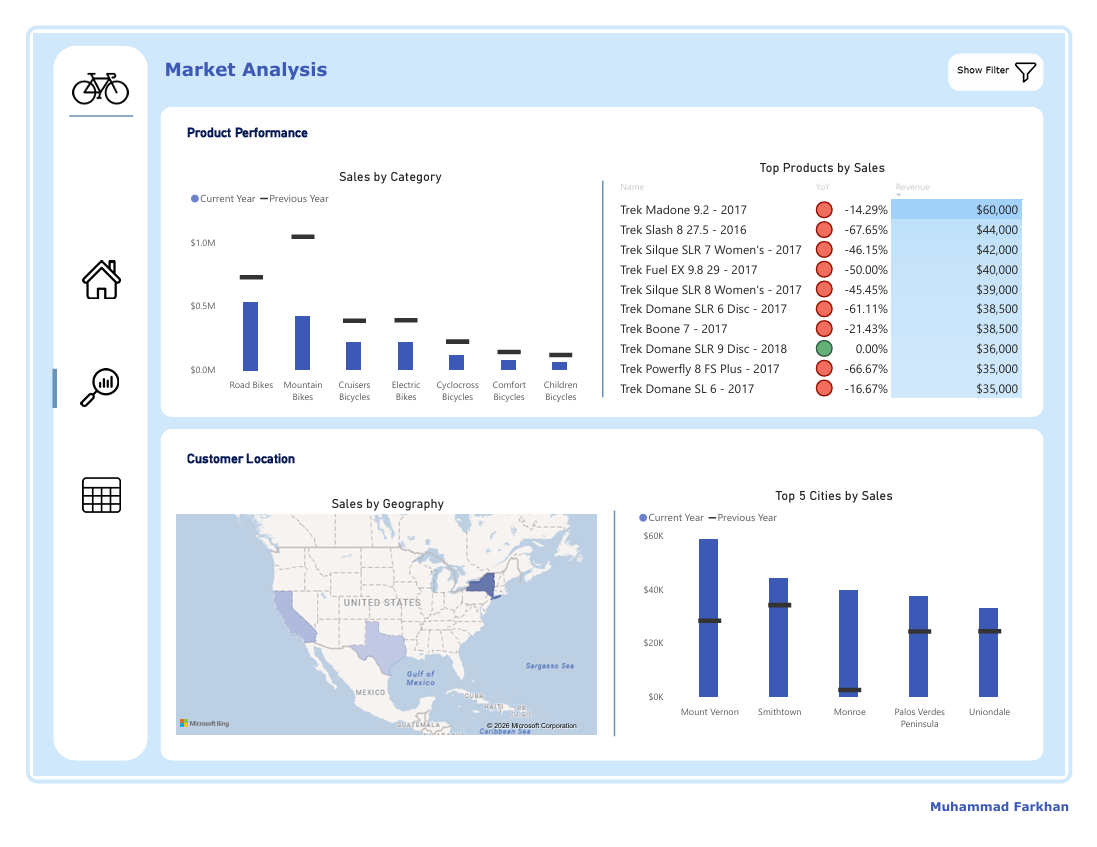

The page's visual inventory and layout, read from the dashboard file:
{"tool":"powerbi","page":{"name":"Market Analysis","canvas":[1400,1090],"ordinal":1},"visuals":[{"type":"shape","box":[1116,1016,270,62],"z":0},{"type":"shape","box":[12.3,12.3,1374.9,994.3],"z":1000},{"type":"shape","box":[47.6,38.6,124.5,938.2],"z":2000},{"type":"shape","box":[189.4,541.9,1159.2,434.9],"z":3000},{"type":"textbox","box":[219.2,564.7,199.9,38.6],"z":4000},{"type":"shape","box":[769.8,648.8,31.6,296.4],"z":5000},{"type":"textbox","box":[189.4,49.1,326.2,70.1],"z":6000},{"type":"image","box":[74.4,320.9,73.7,50.9],"z":7000},{"type":"shape","box":[17.5,463,64.9,50.9],"z":8000},{"type":"image","box":[72.6,462.1,73.7,50.9],"z":9000},{"type":"image","box":[74.4,603.3,73.7,50.9],"z":10000},{"type":"image","box":[67.3,57.9,84.2,73.7],"z":11000},{"type":"shape","box":[69.1,87.7,84.2,85.9],"z":12000},{"type":"image","box":[1224,49.1,124.5,49.1],"z":13000},{"type":"filledMap","title":"State by Revenue","fields":{"Category":["bike_sales bike_sales_clean.state"]},"box":[203.4,627.8,566.4,322.7],"z":14000},{"type":"lineClusteredColumnComboChart","title":"Top 5 Cities by Revenue","fields":{"Y":["_Measures .TotalRevenue"],"Y2":["_Measures .RevenuePY"],"Category":["bike_sales bike_sales_clean.city"]},"box":[801.4,603.3,533.1,342],"z":15000},{"type":"shape","box":[189.4,119.2,1159.2,406.8],"z":16000},{"type":"textbox","box":[219.2,136.8,226.2,54.4],"z":17000},{"type":"shape","box":[757.6,215.7,24.6,284.1],"z":18000},{"type":"tableEx","title":"Top Products by Revenue","fields":{"Values":["bike_sales bike_sales_clean.product_name","_Measures .RevenueYoY","_Measures .TotalRevenue"]},"box":[782.1,184.1,552.4,326.2],"z":19000},{"type":"lineClusteredColumnComboChart","title":"Category by Revenue","fields":{"Y":["_Measures .TotalRevenue"],"Y2":["_Measures .RevenuePY"],"Category":["bike_sales bike_sales_clean.category_name"]},"box":[212.2,184.1,545.4,331.4],"z":20000},{"type":"textbox","box":[1068,1030,300,32],"z":23000},{"type":"image","box":[1116,1014,78,62],"z":24000}]}

Visuals, with their boxes in screenshot pixels (x1, y1, x2, y2), scaled from the page's 1400x1090 canvas onto the 1097x847 screenshot:
shape: locate(874, 789, 1086, 838)
shape: locate(10, 10, 1087, 782)
shape: locate(37, 30, 135, 759)
shape: locate(148, 421, 1057, 759)
textbox: locate(172, 439, 328, 469)
shape: locate(603, 504, 628, 734)
textbox: locate(148, 38, 404, 93)
image: locate(58, 249, 116, 289)
shape: locate(14, 360, 65, 399)
image: locate(57, 359, 115, 399)
image: locate(58, 469, 116, 508)
image: locate(53, 45, 119, 102)
shape: locate(54, 68, 120, 135)
image: locate(959, 38, 1057, 76)
"State by Revenue" filledMap: locate(159, 488, 603, 739)
"Top 5 Cities by Revenue" lineClusteredColumnComboChart: locate(628, 469, 1046, 735)
shape: locate(148, 93, 1057, 409)
textbox: locate(172, 106, 349, 149)
shape: locate(594, 168, 613, 388)
"Top Products by Revenue" tableEx: locate(613, 143, 1046, 397)
"Category by Revenue" lineClusteredColumnComboChart: locate(166, 143, 594, 401)
textbox: locate(837, 800, 1072, 825)
image: locate(874, 788, 936, 836)
